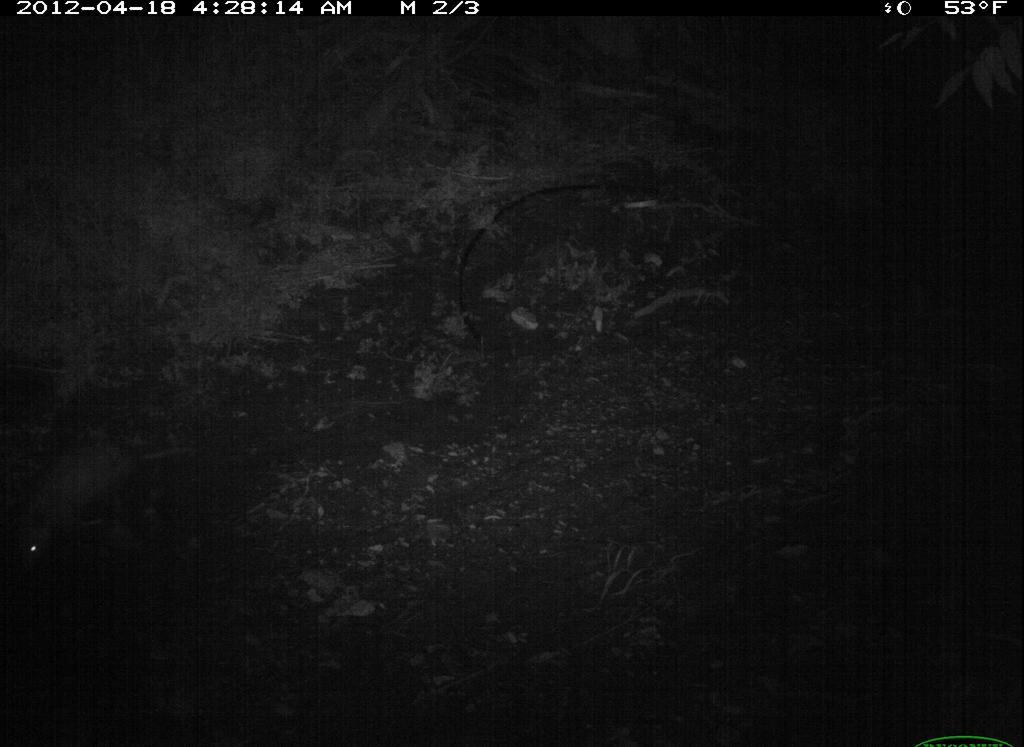opossum: (3, 421, 217, 603)
